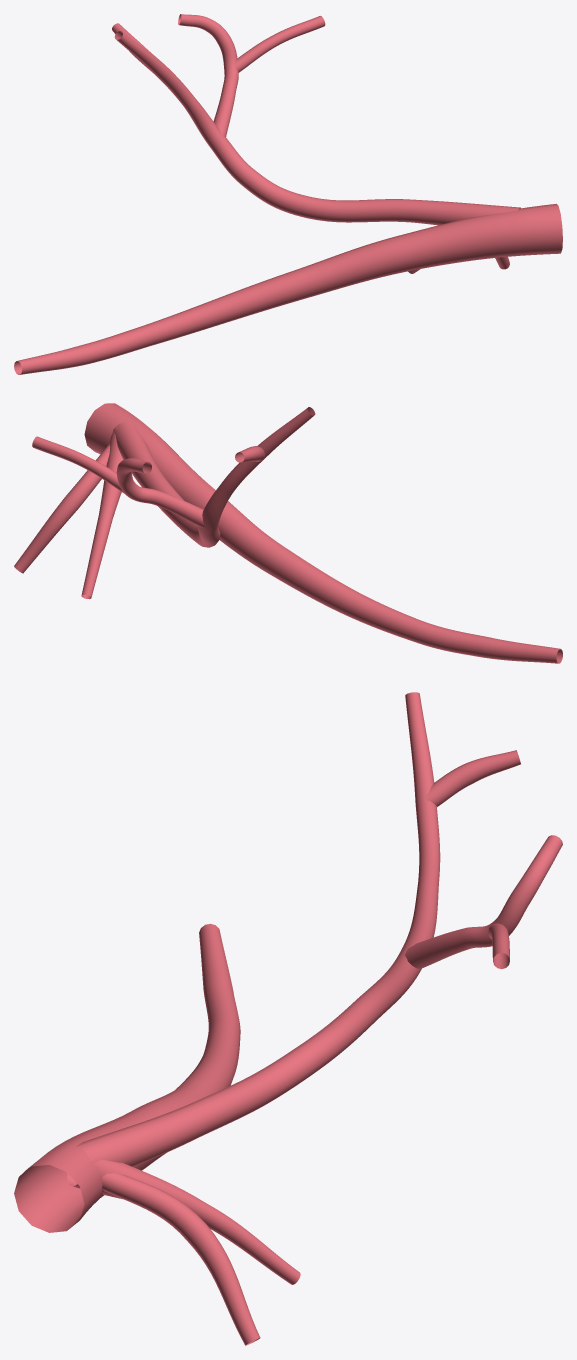
3 views of the same model, one above another, from view 1: azimuth 30°, elevation 25°; view 2: azimuth 150°, elevation 25°; view 3: azimuth 270°, elevation 25° (orthographic). The views are drawn at different scales.
Visible parts, largest first — view 1: ZA_27b817772cfc5159; view 2: ZA_27b817772cfc5159; view 3: ZA_27b817772cfc5159.
Part boxes in pixels (x1,y1,x2,y2): ZA_27b817772cfc5159: [14, 14, 562, 374]; ZA_27b817772cfc5159: [14, 403, 562, 663]; ZA_27b817772cfc5159: [14, 692, 562, 1345].
Size of the model in its own units: 0.0812 by 0.0426 by 0.0511.
